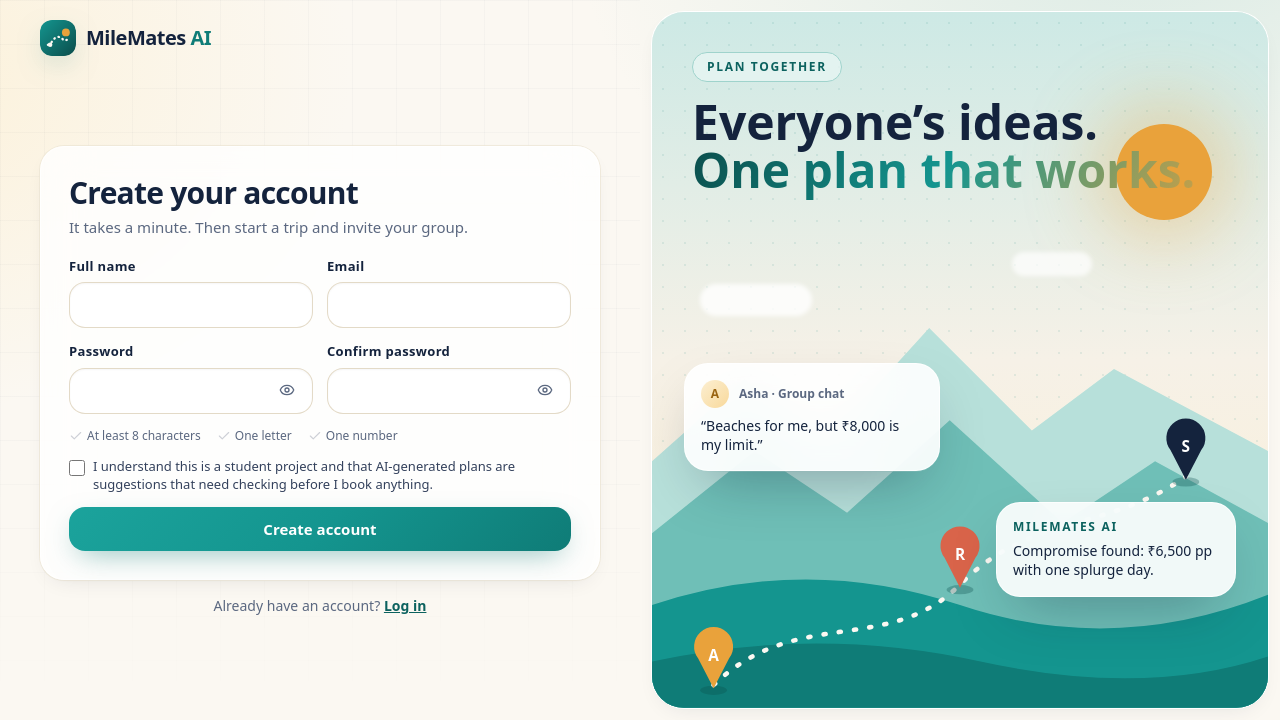
Scenario: forms › registration validates before calling the API
The image size is (1280, 720).
Click the button "Create account" at (320, 529), box [69,507,571,551]
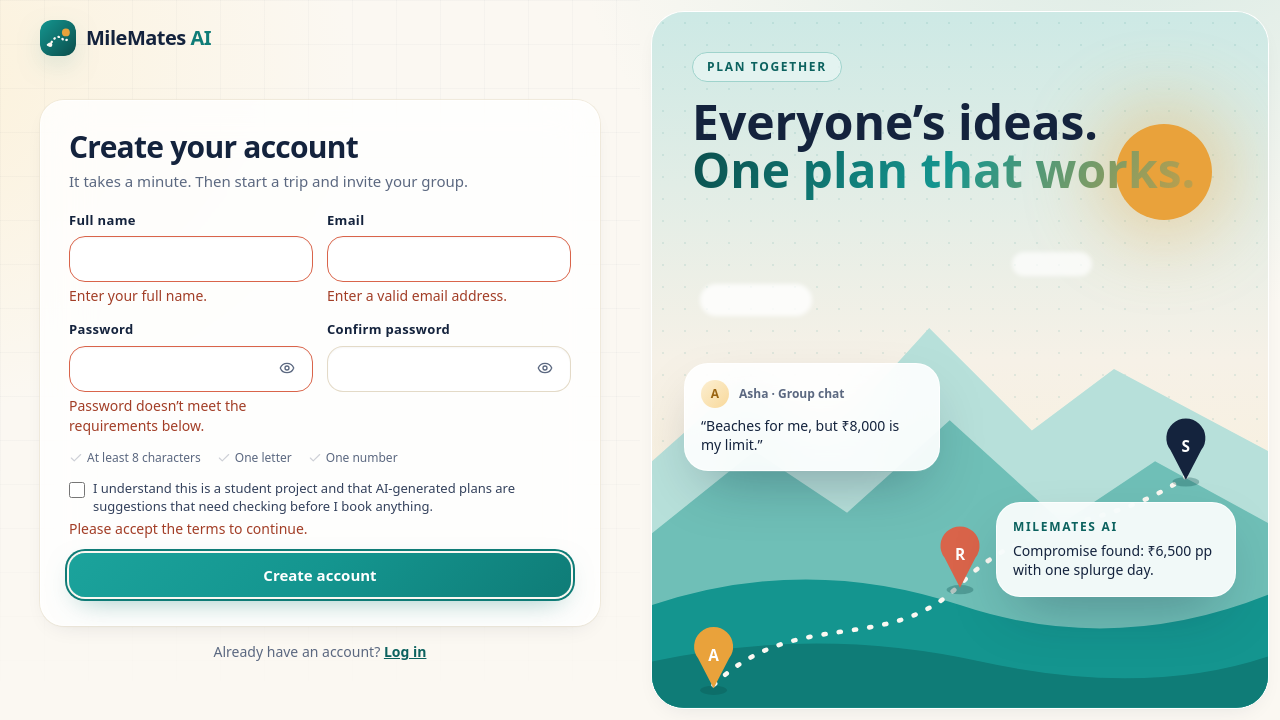
expect the text "Enter your full name." is shown: met, box [69,286,207,305]
expect the text "Enter a valid email address." is shown: met, box [327,286,507,305]
expect the text "Please accept the terms to continue." is shown: met, box [69,519,308,538]
